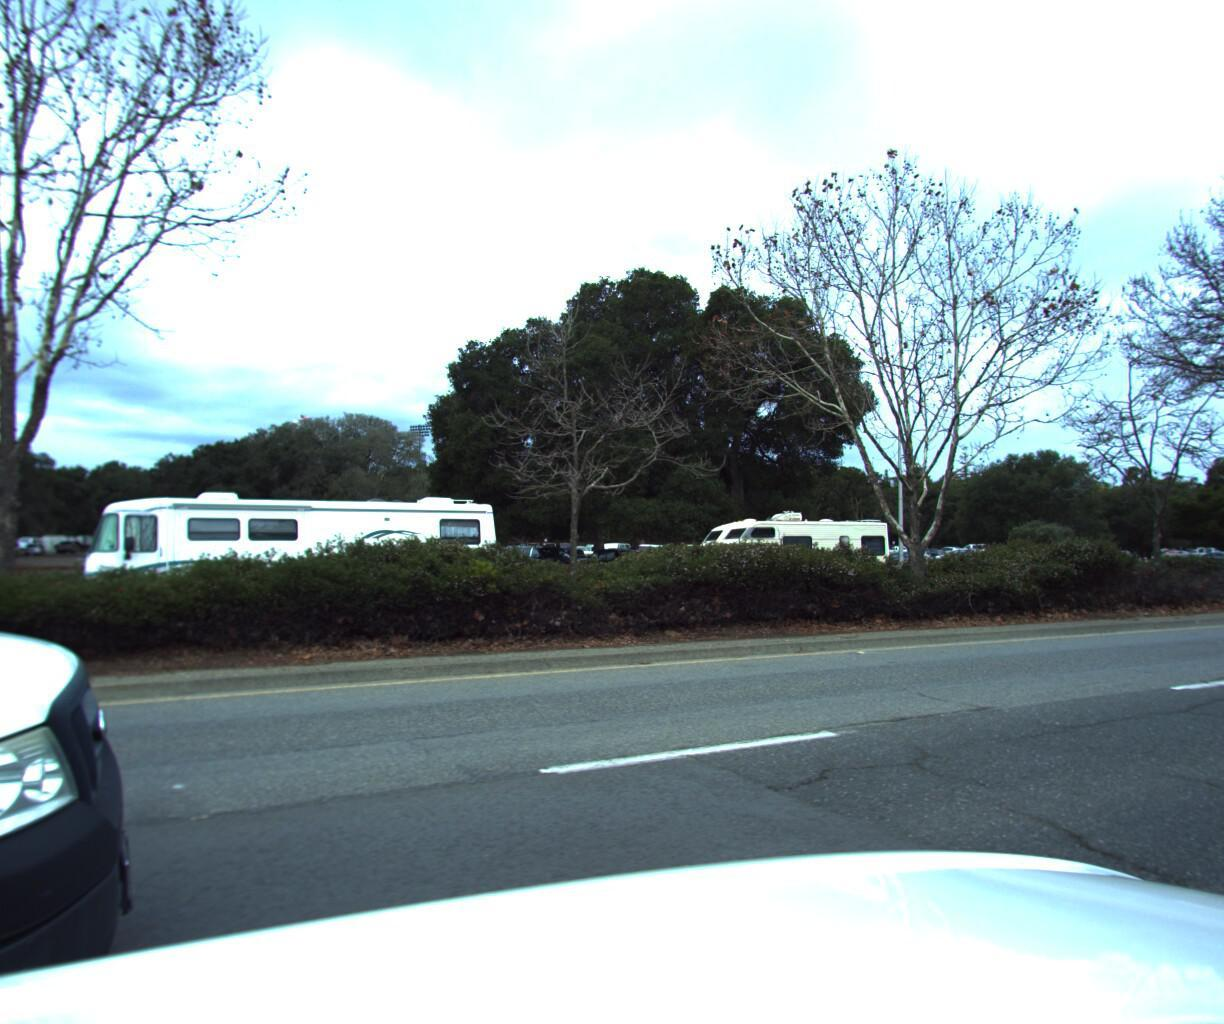other_vehicle: (74, 481, 510, 629), (683, 501, 896, 598)
